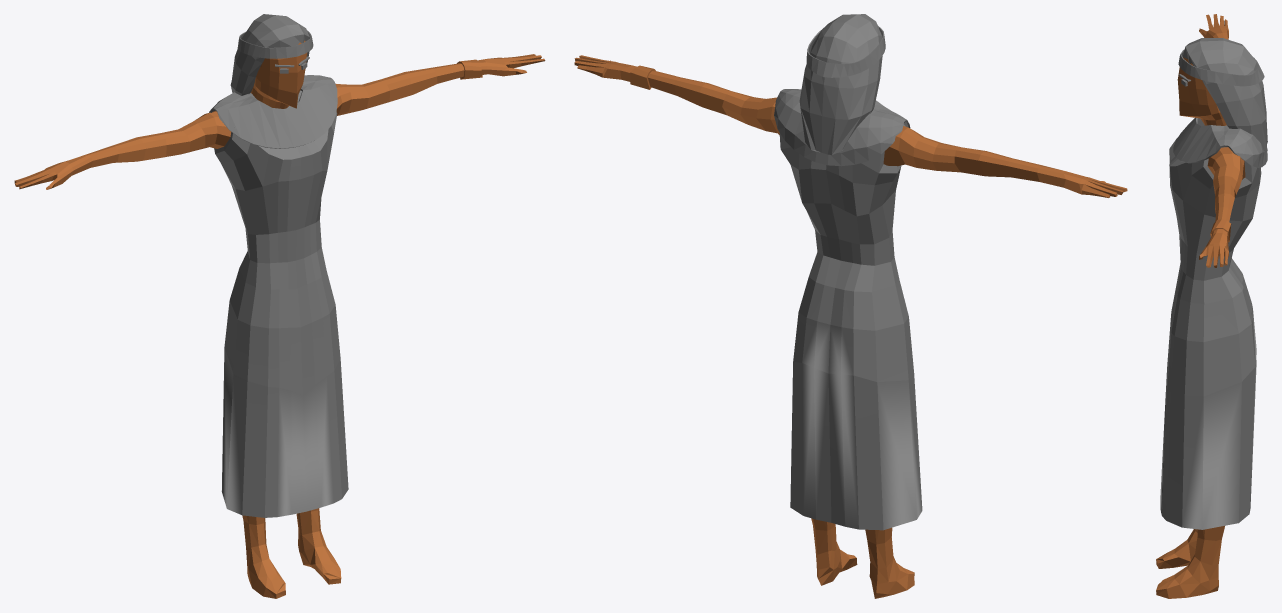
Rendered from SM_citizen_F_egypt.fbx.
3 views of the same model, side by side, from view 1: azimuth 30°, elevation 25°; view 2: azimuth 150°, elevation 25°; view 3: azimuth 270°, elevation 25° (orthographic). The views are drawn at different scales.
Visible parts, largest first — view 1: Object1284358; view 2: Object1284358; view 3: Object1284358.
Boxes of the visible parts, box(x1,y1,x2,y2) form: Object1284358: box(14, 14, 545, 598); Object1284358: box(574, 14, 1127, 598); Object1284358: box(1156, 14, 1267, 598).
Bounding box in the file's own units: 76.74 × 14.41 × 76.81.
